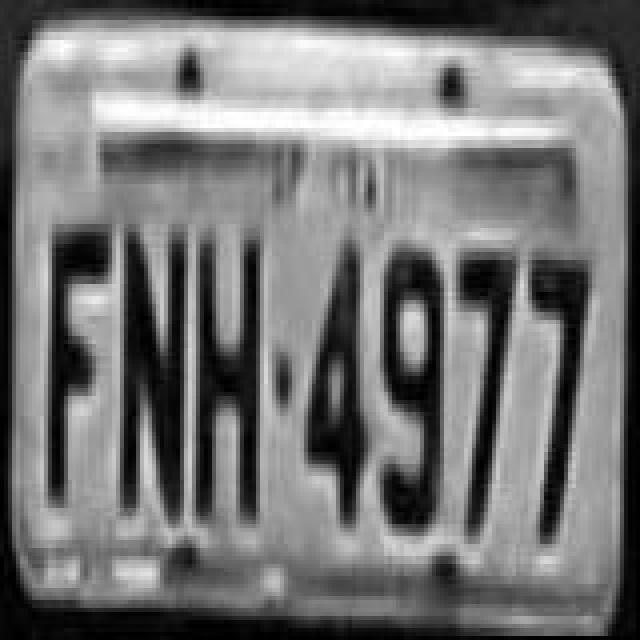4: (300, 234, 368, 530)
7: (524, 244, 592, 548), (452, 246, 520, 542)
9: (378, 242, 450, 538)
F: (44, 226, 112, 510)
H: (196, 226, 264, 522)
N: (118, 228, 190, 524)
